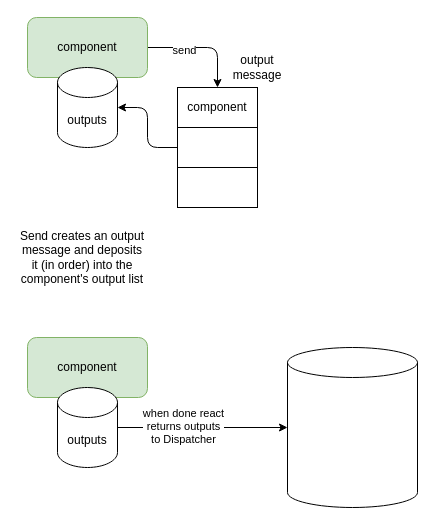
This 435x525 diagram has some shape labels left out. The shapes that lost their labels are listed below. From the top down, each one's centre as x and y in pixels, then its label:
At pixel 217 147: "pin".
At pixel 217 187: "data".
At pixel 352 427: "Dispatcher's output bucket".
